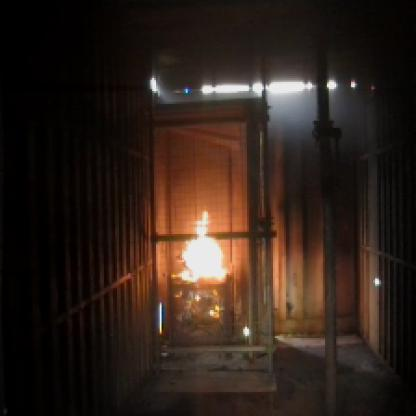Fire: (161, 208, 249, 336)
